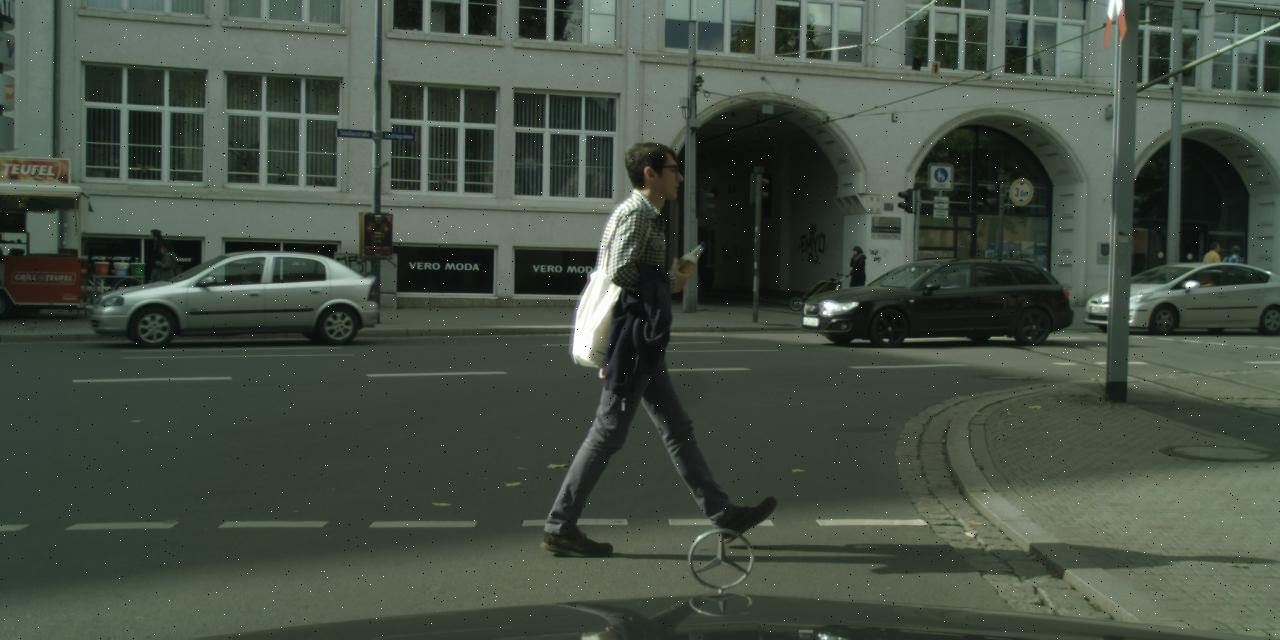ped: (573, 140, 739, 546), (137, 228, 172, 313), (152, 241, 184, 318), (1196, 243, 1226, 318), (1219, 245, 1249, 319), (842, 245, 871, 316)
